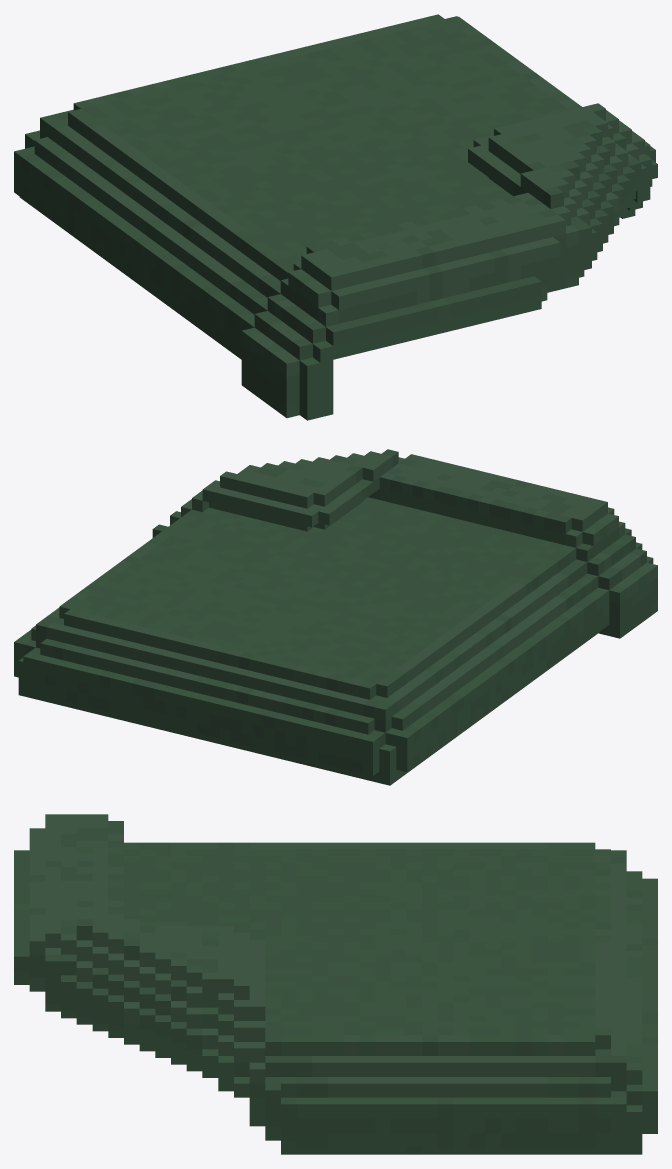
The model's file is duvet.glb.
3 renders of one model, top to bottom at view 1: azimuth 30°, elevation 25°; view 2: azimuth 150°, elevation 25°; view 3: azimuth 270°, elevation 25°, orthographic. The views are drawn at different scales.
Parts seen in each view (by area): view 1: model; view 2: model; view 3: model.
Part boxes in pixels (x1,y1,x2,y2): model: (14, 14, 657, 420); model: (14, 449, 657, 785); model: (14, 814, 657, 1154).
Size of the model in its own units: 3.7 by 1 by 4.1.
